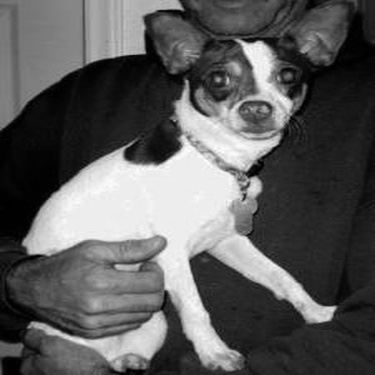dog: (16, 4, 354, 372)
